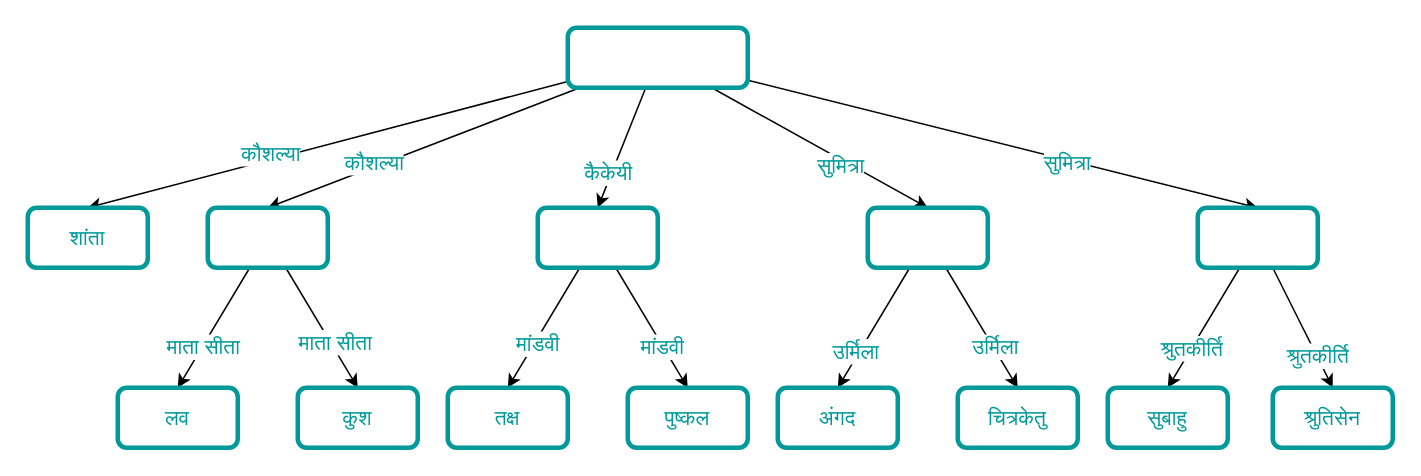
Some shapes in this 1421 by 476 pixel diagram are drawn without their labels. The shapes that lost their labels are listed below. From the top down, each one's centre as x and y in pixels, then its label:
At pixel 657 57: "दशरथ".
At pixel 267 237: "श्रीराम".
At pixel 597 237: "भरत".
At pixel 927 237: "लक्ष्मण".
At pixel 1257 237: "शत्रुघ्न".
